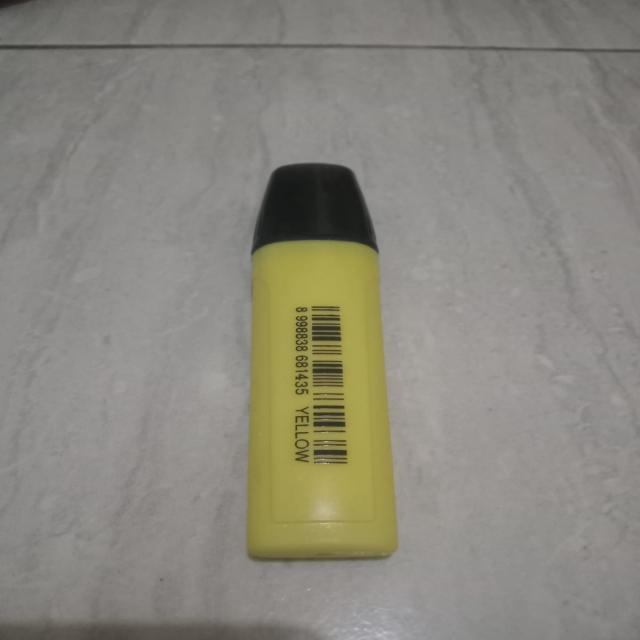highlighter: (200, 150, 461, 580)
